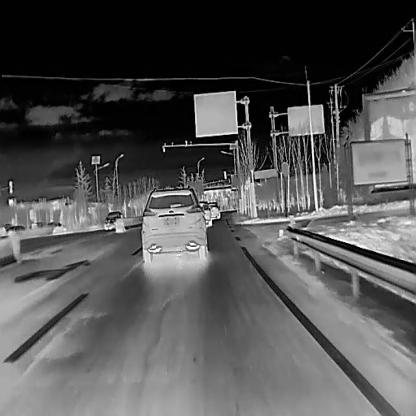car: (140, 187, 207, 262), (197, 200, 211, 226), (103, 211, 122, 229), (207, 201, 220, 219), (6, 224, 25, 232), (46, 221, 63, 227)
